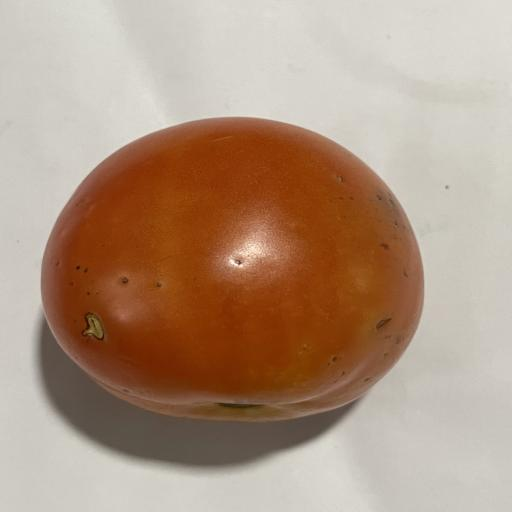ripe: (41, 118, 423, 421)
